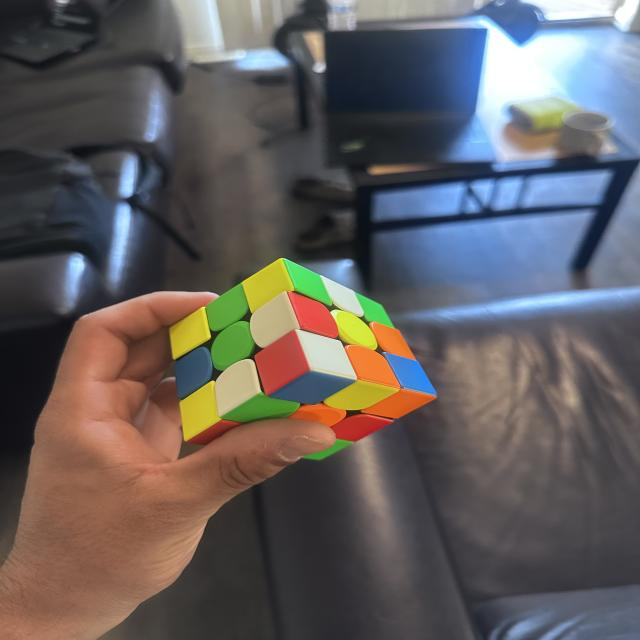sticker: (256, 327, 356, 406), (216, 359, 300, 424), (361, 351, 438, 419), (253, 330, 313, 398), (178, 381, 230, 444), (249, 292, 300, 349), (360, 382, 434, 421), (239, 257, 293, 310), (342, 344, 401, 392), (220, 388, 296, 425), (323, 376, 395, 414), (282, 258, 334, 309), (288, 291, 339, 339), (210, 319, 256, 372), (168, 306, 211, 359), (328, 411, 396, 444), (174, 346, 215, 400), (205, 283, 250, 332), (331, 309, 376, 351), (184, 416, 243, 448), (320, 276, 364, 318), (369, 321, 416, 360), (354, 290, 394, 330), (287, 402, 347, 428), (304, 437, 353, 461)
